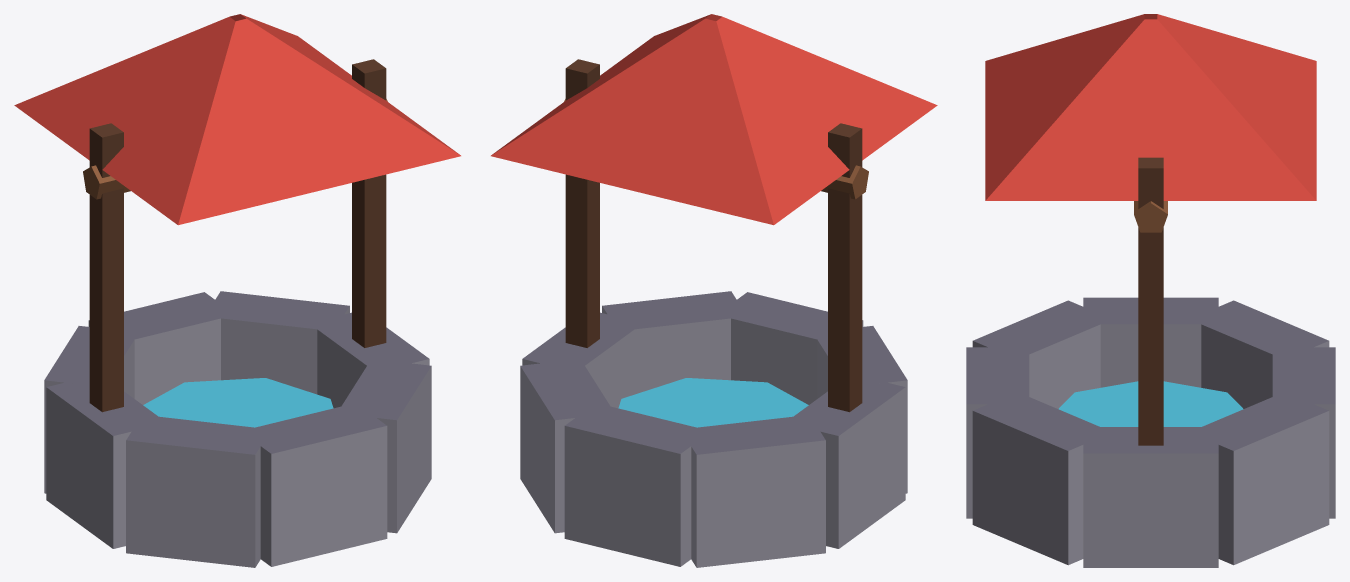
Rendered from CA_Pozo.obj.
The picture shows the model from 3 angles, left to right: view 1: azimuth 30°, elevation 25°; view 2: azimuth 150°, elevation 25°; view 3: azimuth 270°, elevation 25°; orthographic projection.
Parts seen in each view (by area): view 1: CA_Pozo; view 2: CA_Pozo; view 3: CA_Pozo.
Part boxes in pixels (box(x1,y1,x2,y2)): CA_Pozo: box(14, 14, 460, 567); CA_Pozo: box(491, 14, 937, 567); CA_Pozo: box(966, 14, 1335, 567).
Bounding box in the file's own units: 2.05 × 2.9 × 2.05.
